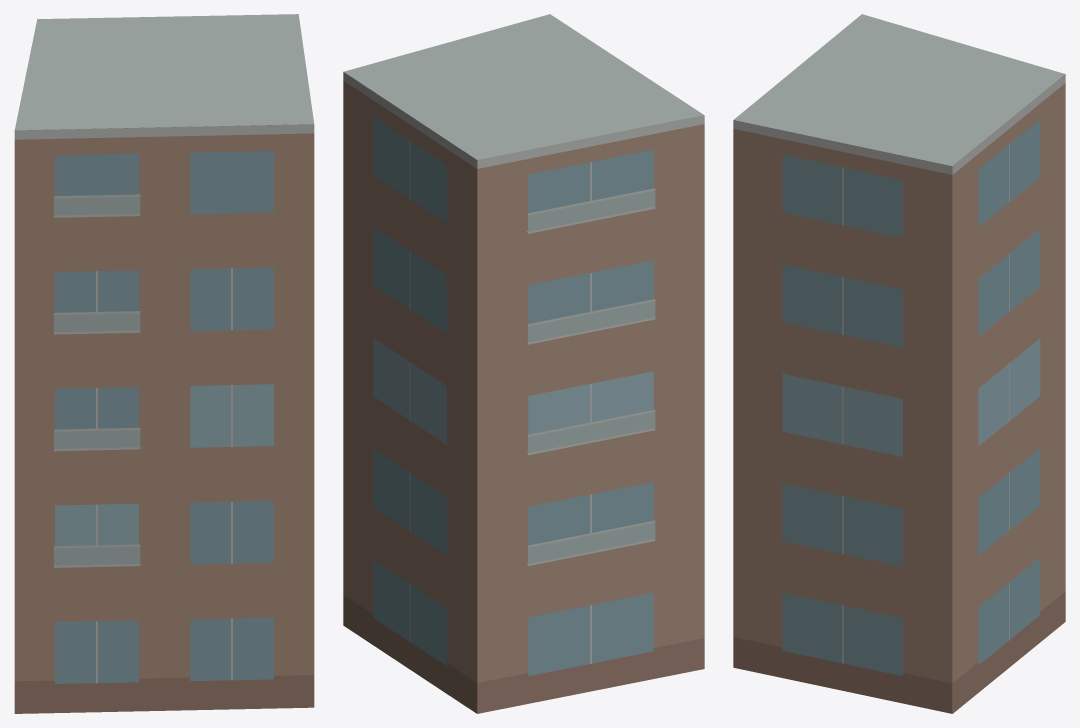
The model's file is survey-upis-32730389.glb.
3 renders of one model, left to right at view 1: azimuth 30°, elevation 25°; view 2: azimuth 150°, elevation 25°; view 3: azimuth 270°, elevation 25°, orthographic. The views are drawn at different scales.
Parts seen in each view (by area): view 1: survey-upis-32730389.tmp; view 2: survey-upis-32730389.tmp; view 3: survey-upis-32730389.tmp.
Boxes of the visible parts, x1,y1,x2,y2 form: survey-upis-32730389.tmp: (14, 14, 314, 713); survey-upis-32730389.tmp: (343, 14, 704, 713); survey-upis-32730389.tmp: (733, 14, 1065, 713).
Bounding box in the file's own units: 9.1 × 15.25 × 8.39.
